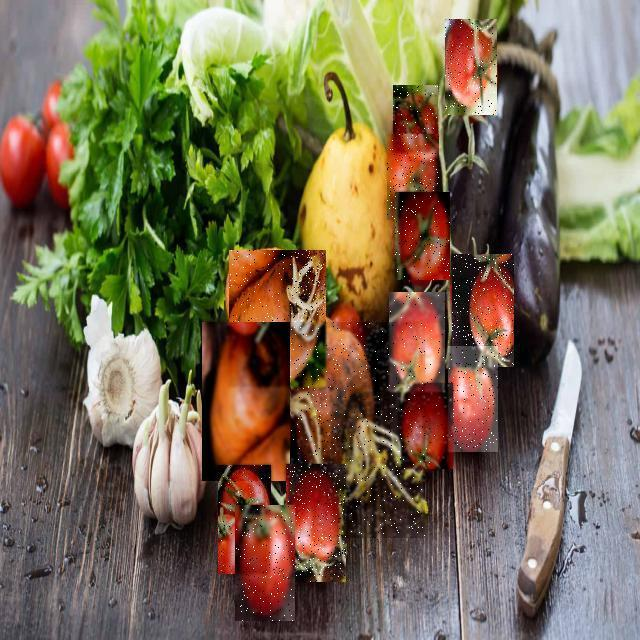Carrot: (291, 322, 425, 538), (202, 322, 290, 481), (229, 250, 326, 387)
Tomatoes: (286, 465, 346, 583), (452, 254, 514, 367), (235, 505, 295, 621), (218, 465, 271, 574), (389, 293, 445, 393), (449, 346, 499, 452), (445, 19, 497, 115), (395, 192, 450, 280), (387, 134, 439, 220), (401, 383, 453, 469), (393, 85, 438, 153)
